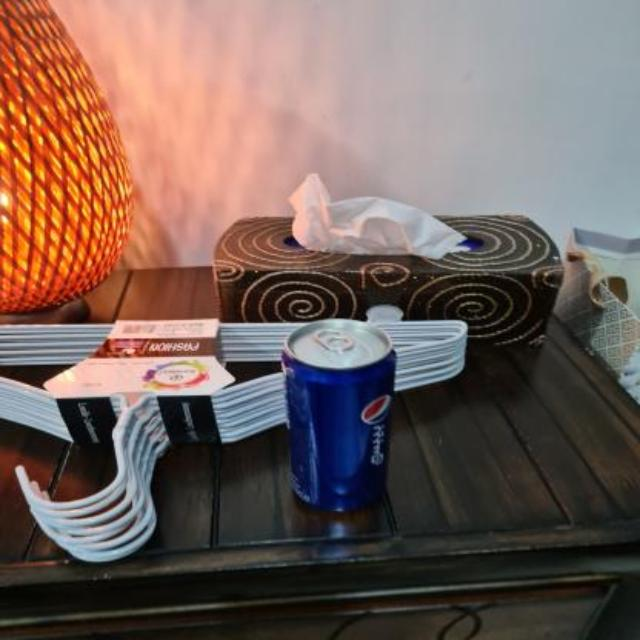cardboard paper: (292, 174, 468, 257)
metal: (282, 320, 394, 511)
